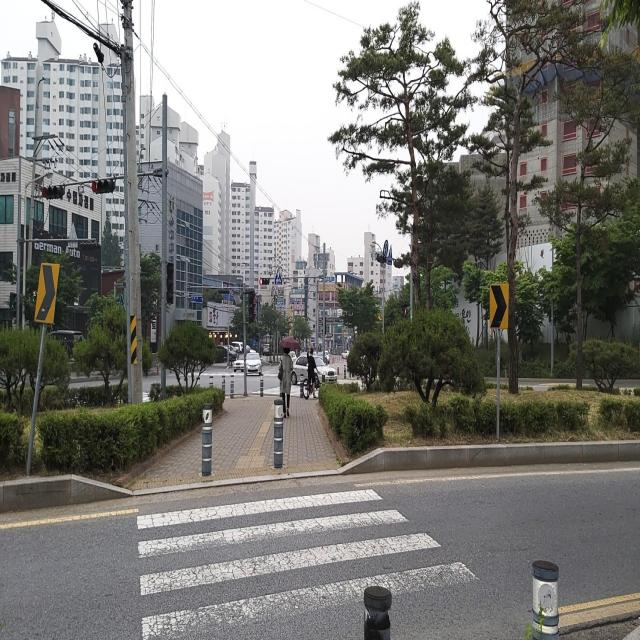횡단보도: (136, 484, 482, 640)
